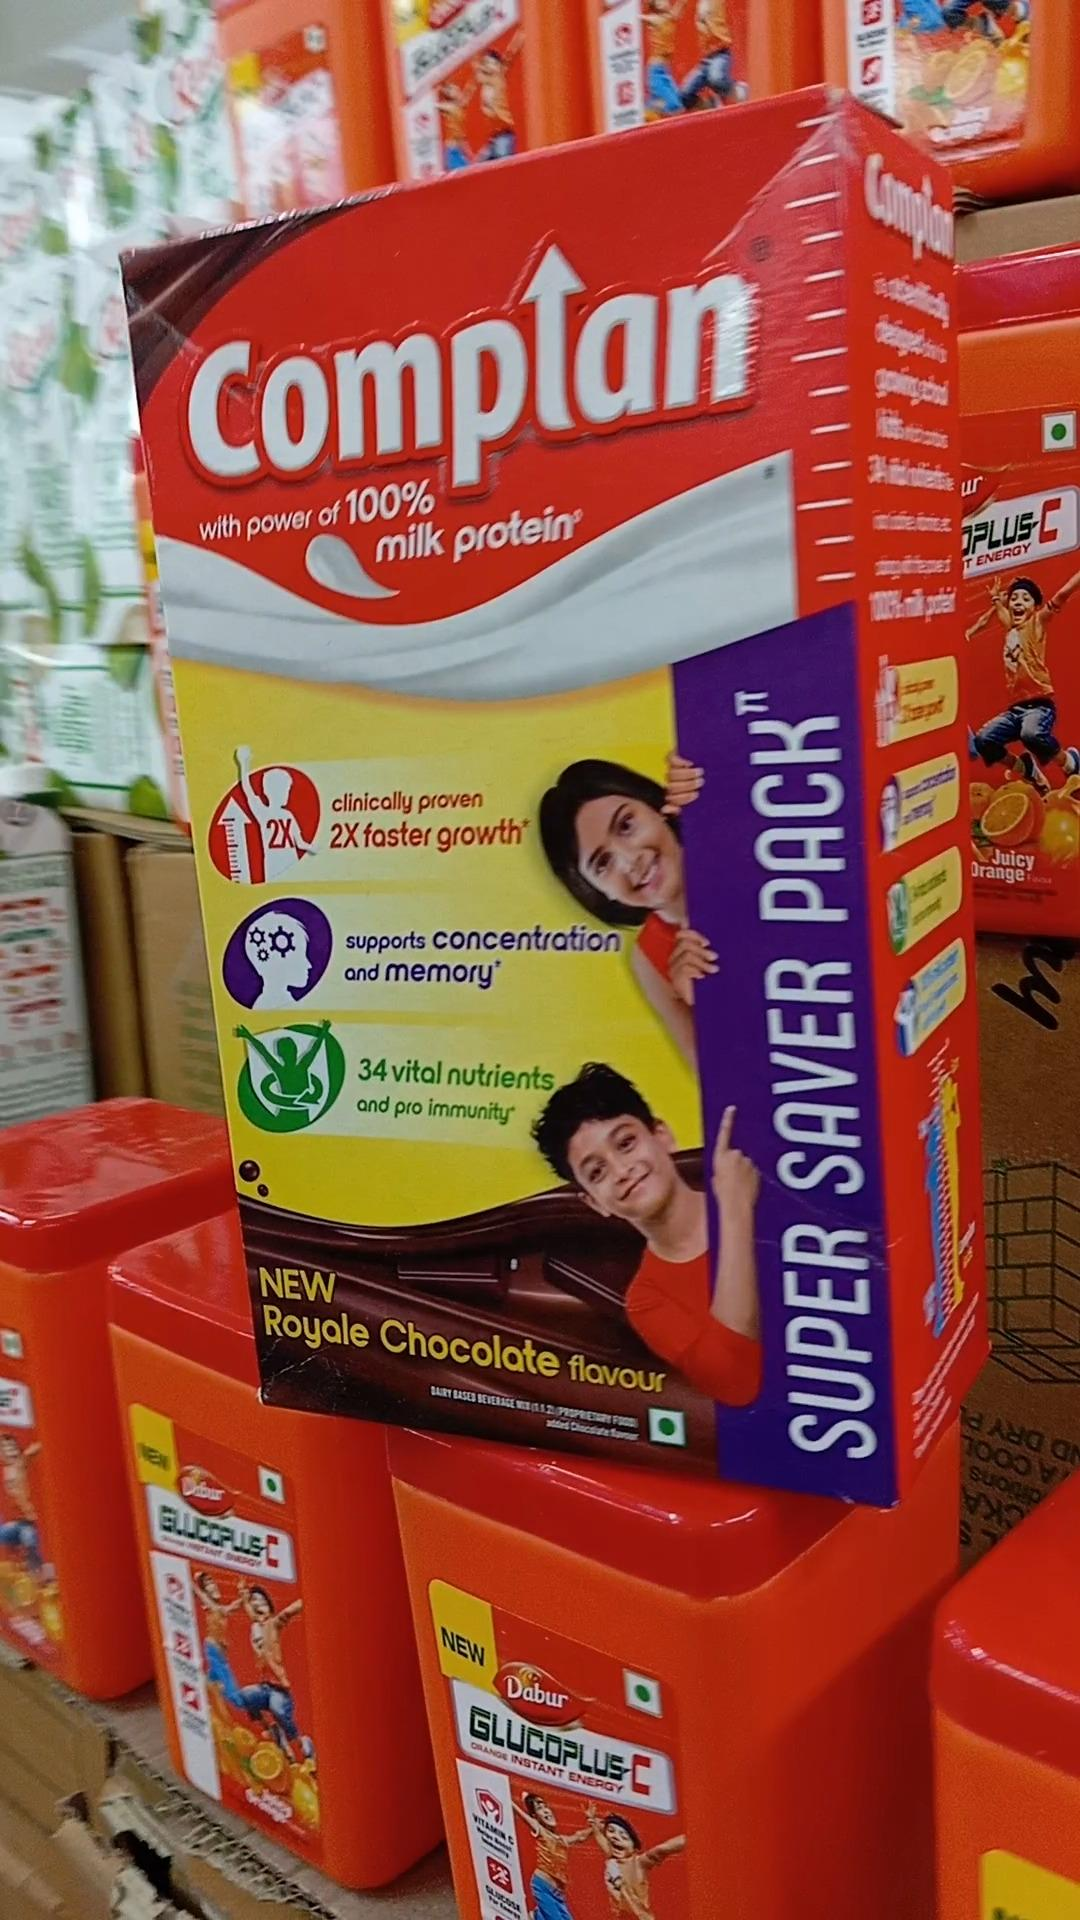COMPLAN_CHOCOLATE_1_KG_PACK: (156, 103, 860, 1484)
